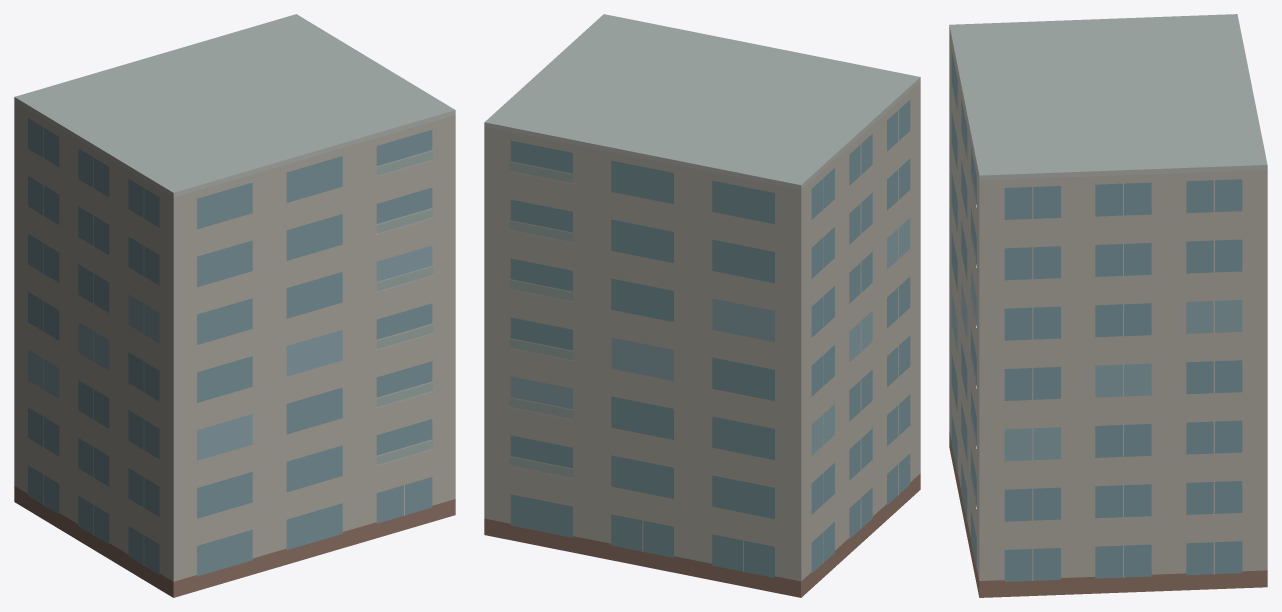
Rendered from survey-upis-32910437.glb.
3 views of the same model, side by side, from view 1: azimuth 30°, elevation 25°; view 2: azimuth 150°, elevation 25°; view 3: azimuth 270°, elevation 25° (orthographic). The views are drawn at different scales.
Visible parts, largest first — view 1: survey-upis-32910437.tmp; view 2: survey-upis-32910437.tmp; view 3: survey-upis-32910437.tmp.
Boxes of the visible parts, <box> form: survey-upis-32910437.tmp: <box>14,14,455,597</box>; survey-upis-32910437.tmp: <box>484,14,920,597</box>; survey-upis-32910437.tmp: <box>949,14,1267,597</box>.
Bounding box in the file's own units: 16.91 × 20.6 × 14.08.
